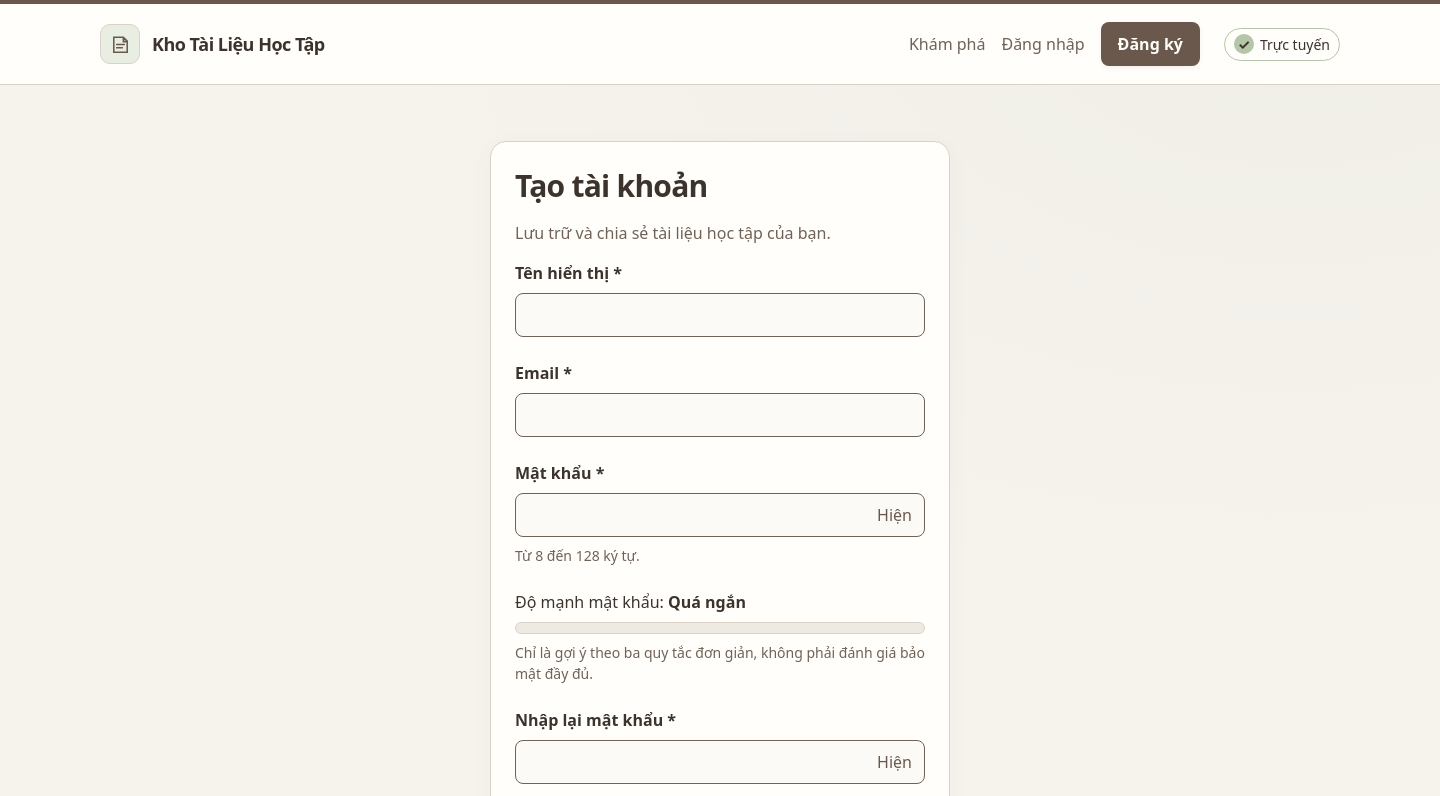
authentication, navigation and public discovery › shows duplicate-email error beside the email field
Expected: the heading "Tạo tài khoản" is shown, [515,165,708,206]
In the field labelled "Tên hiển thị *": (720, 315) [515,293,925,337], type "A"
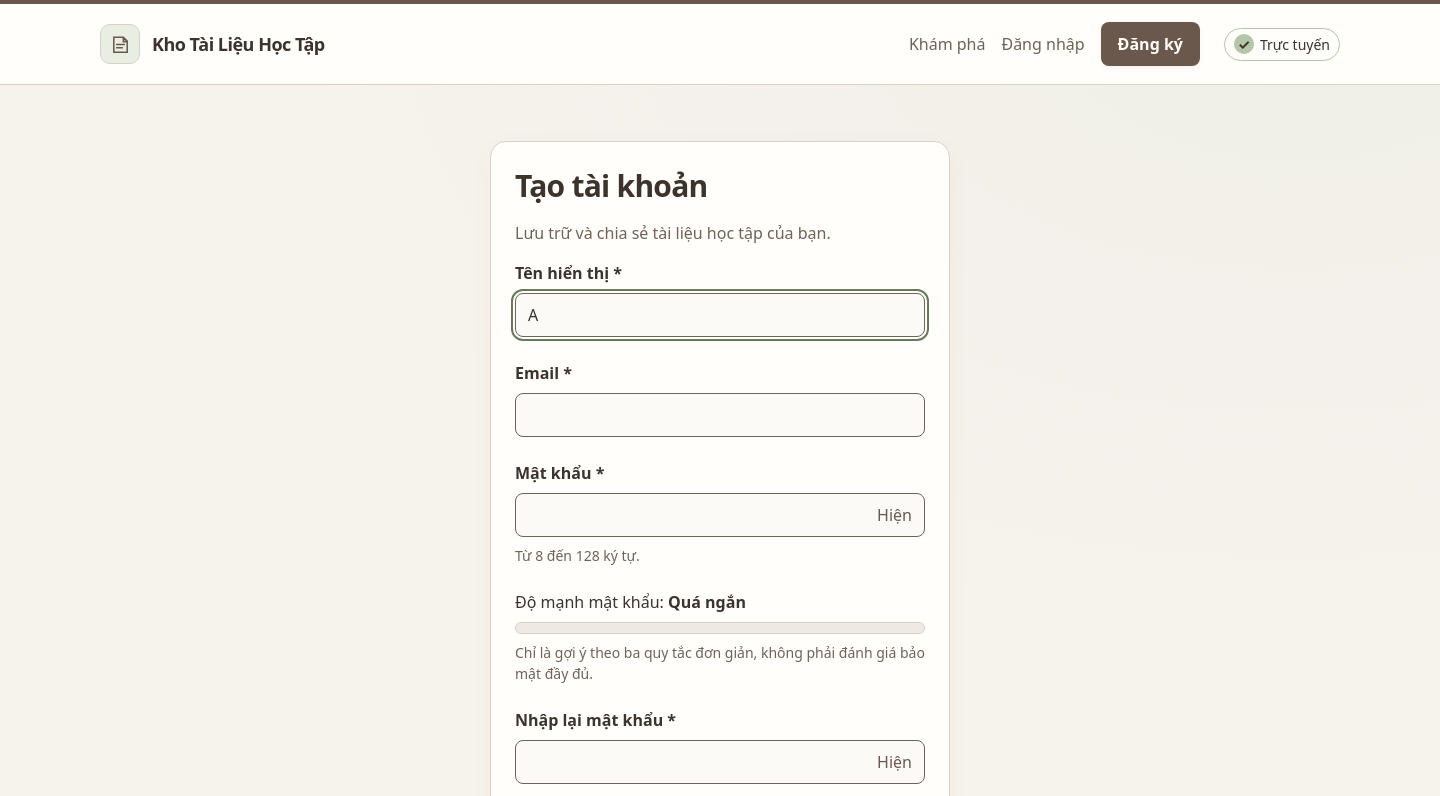
In the field labelled "Email *": (720, 415) [515,393,925,437], type "a@example.com"
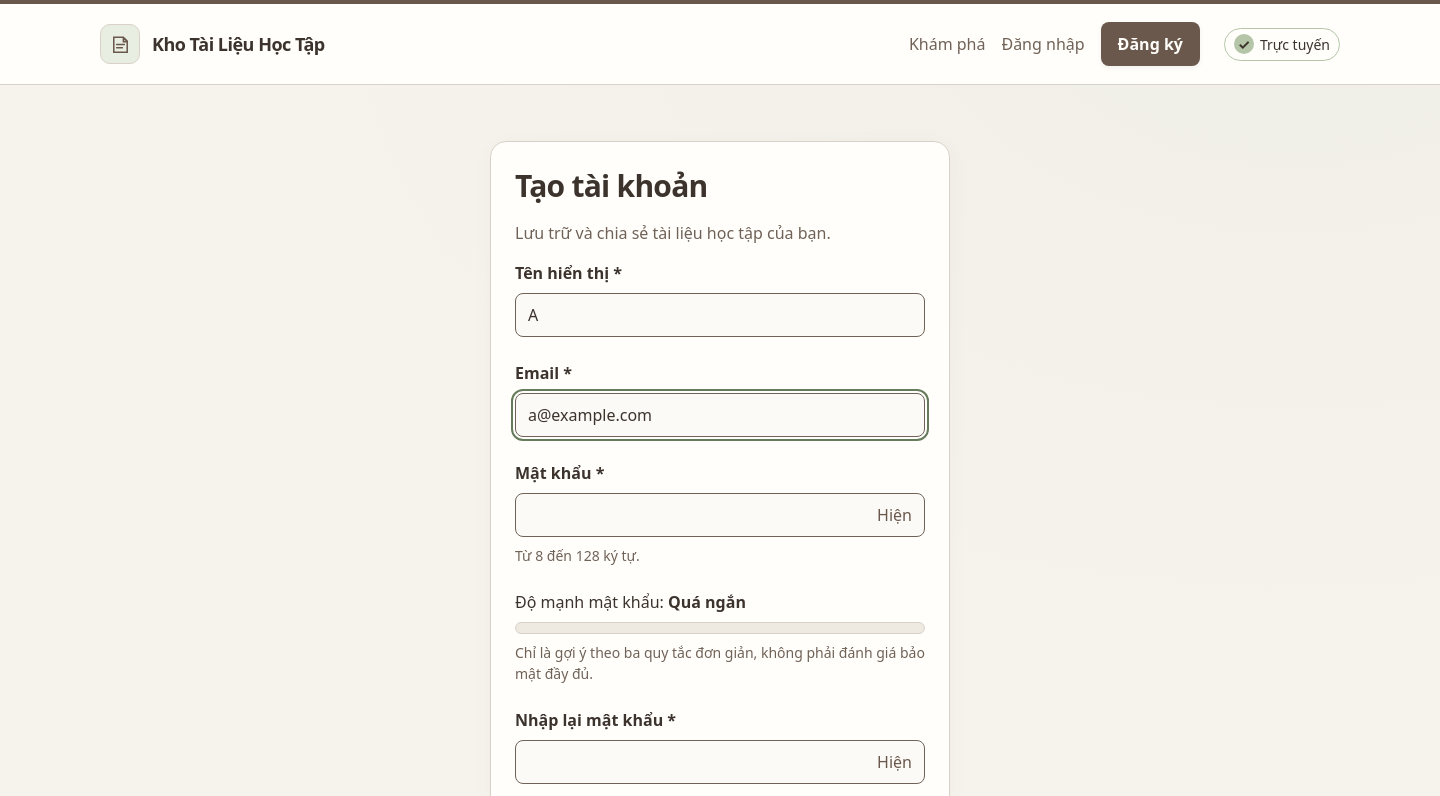
In the password field labelled "Mật khẩu *": (720, 515) [515,493,925,537], type "password123"
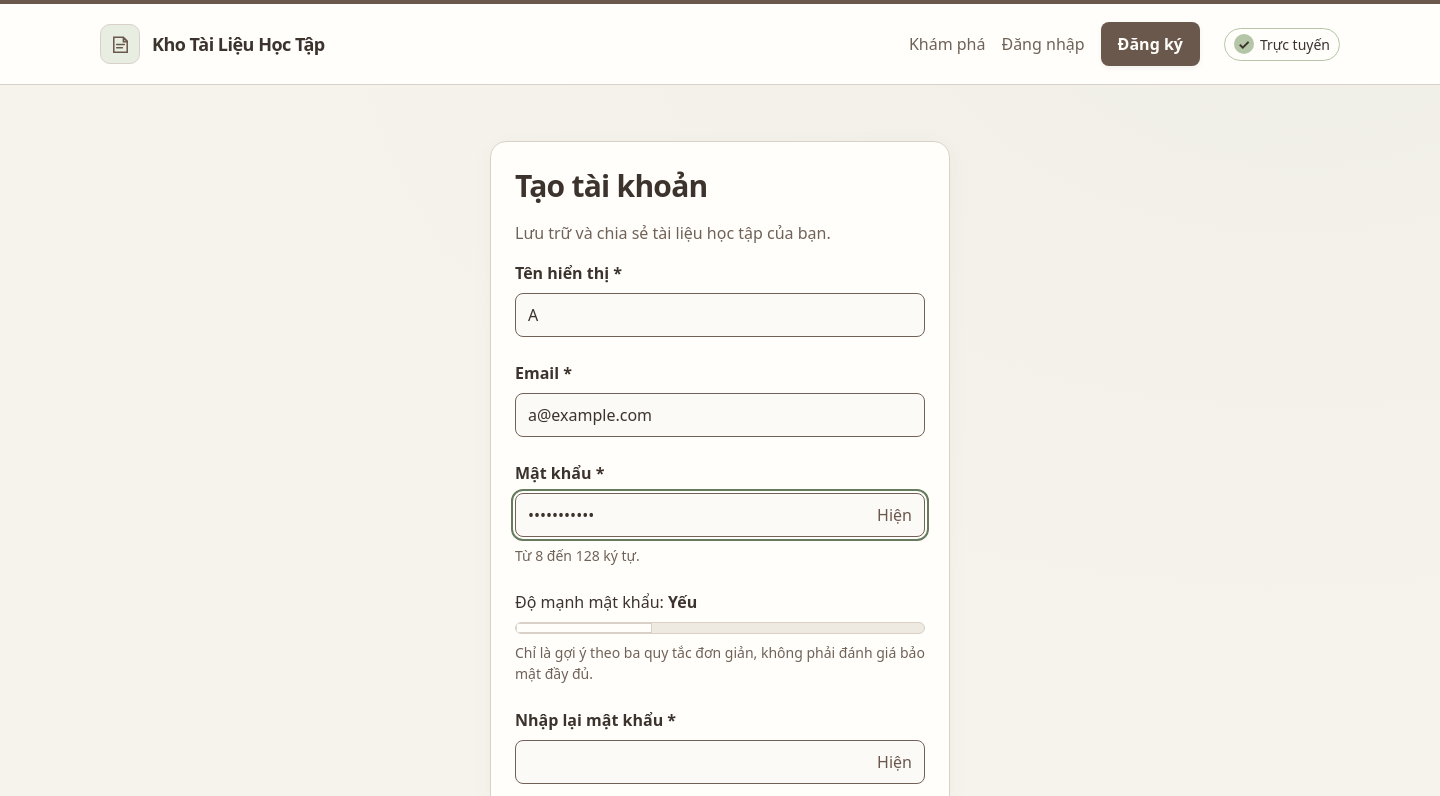
In the password field labelled "Nhập lại mật khẩu *": (720, 762) [515,740,925,784], type "password123"
(page scrolled)
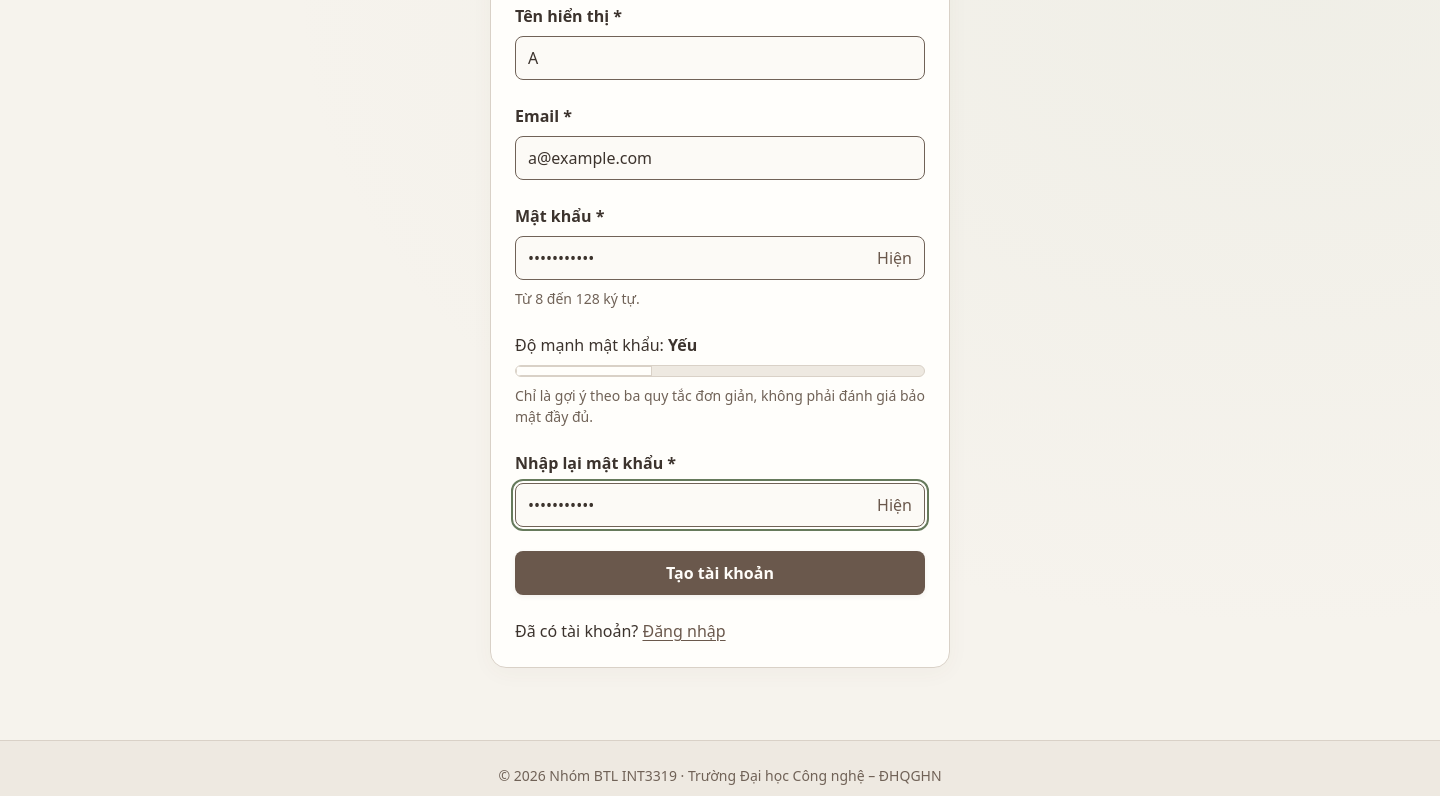
Click the button "Tạo tài khoản": (720, 573) [515,551,925,595]
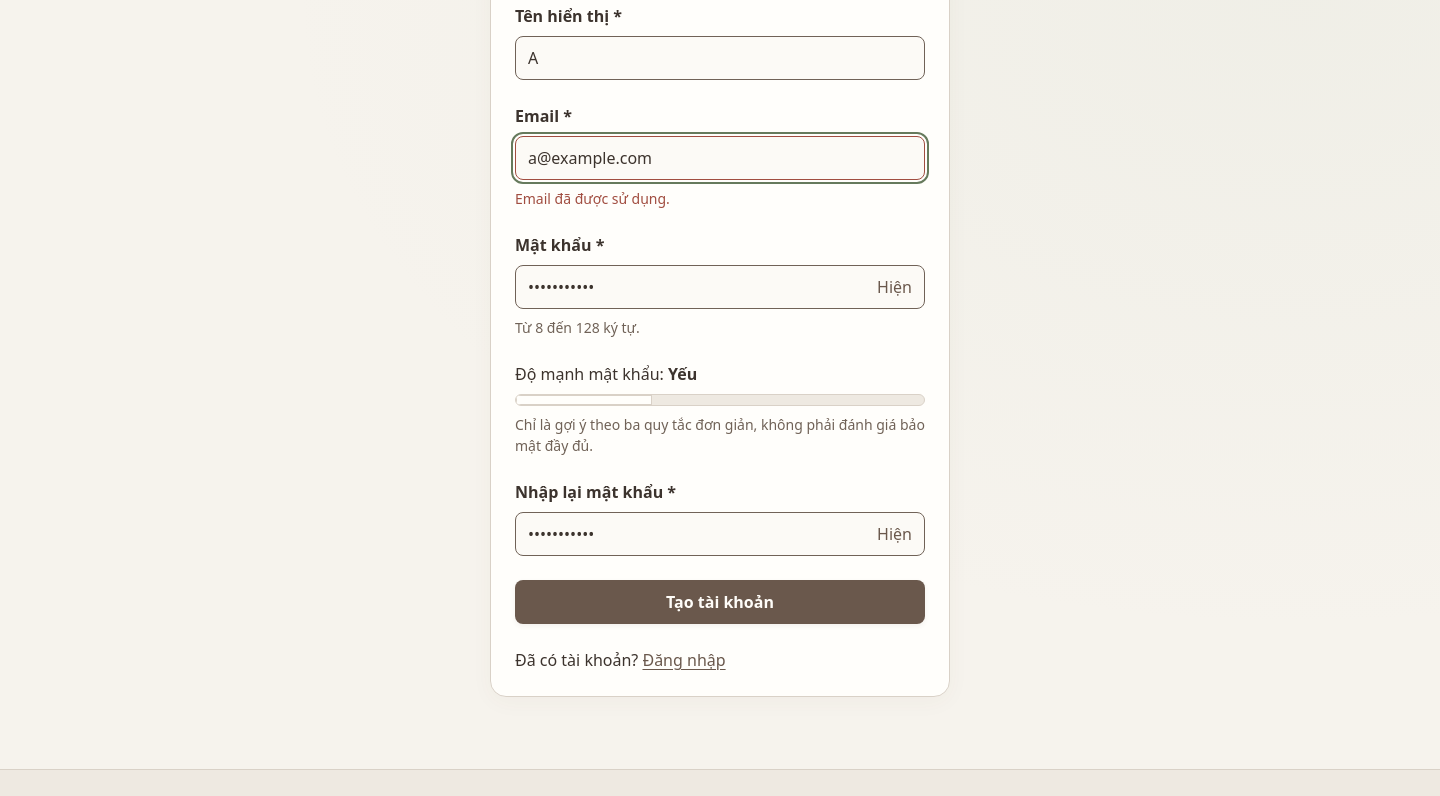
Expected: the text "Email đã được sử dụng." is shown, [515,189,670,208]
